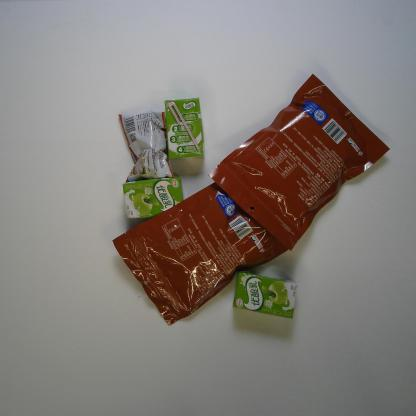Dried Food: (207, 72, 391, 252), (110, 182, 289, 328)
Milk: (232, 270, 298, 320), (121, 175, 184, 220), (164, 97, 205, 160)
Seasoner: (118, 110, 175, 184)
